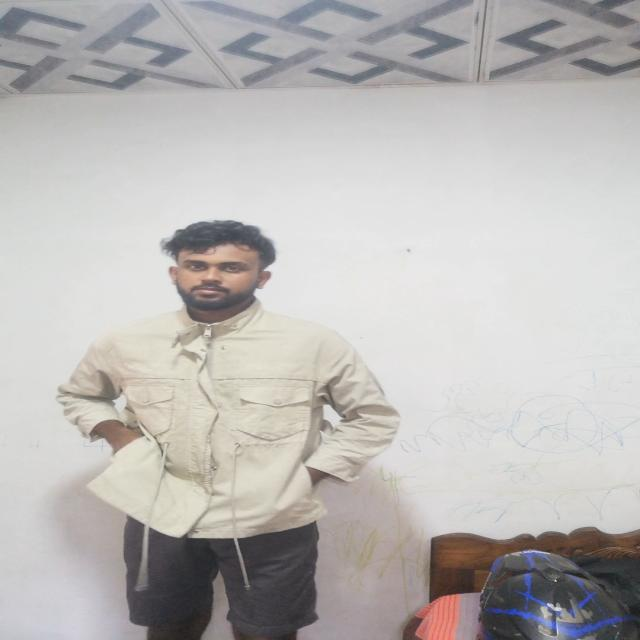Jacket_Wearer: (52, 301, 407, 534)
Person: (68, 214, 394, 637)
